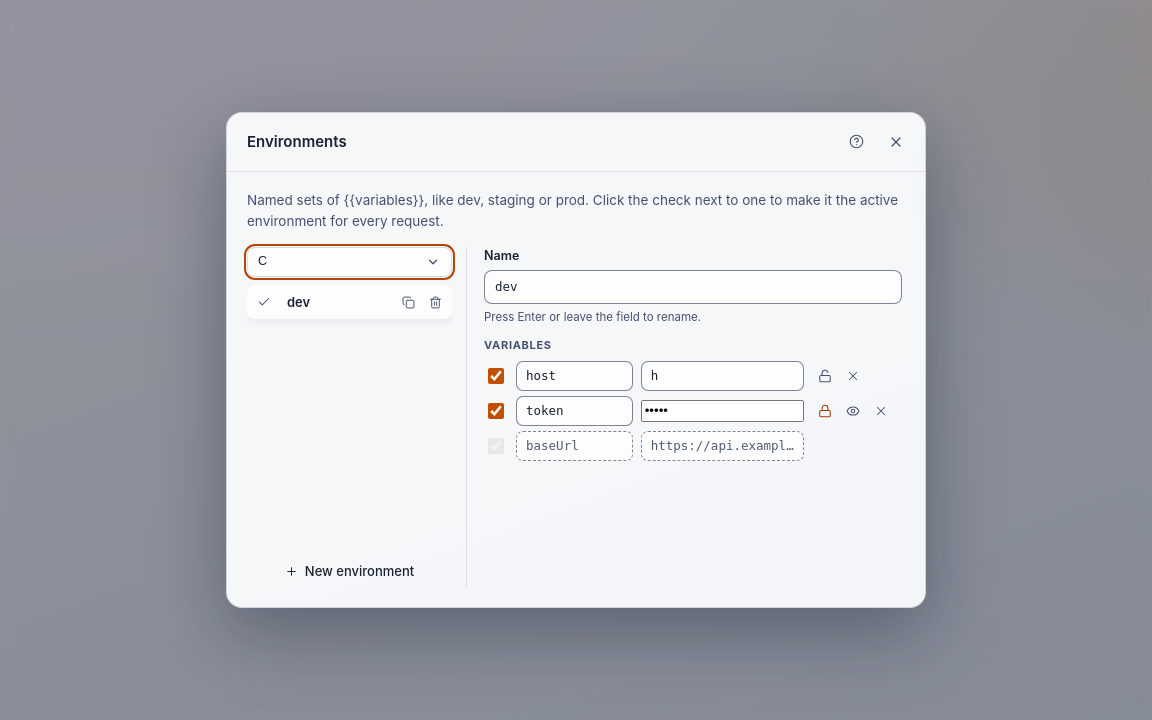
Test case: environment secrets › a revealed row keeps its reveal when a row above it is removed
Click the button named "Reveal variable 2 value" at x=853, y=411, box top-left (840, 398), bottom-right (866, 424)
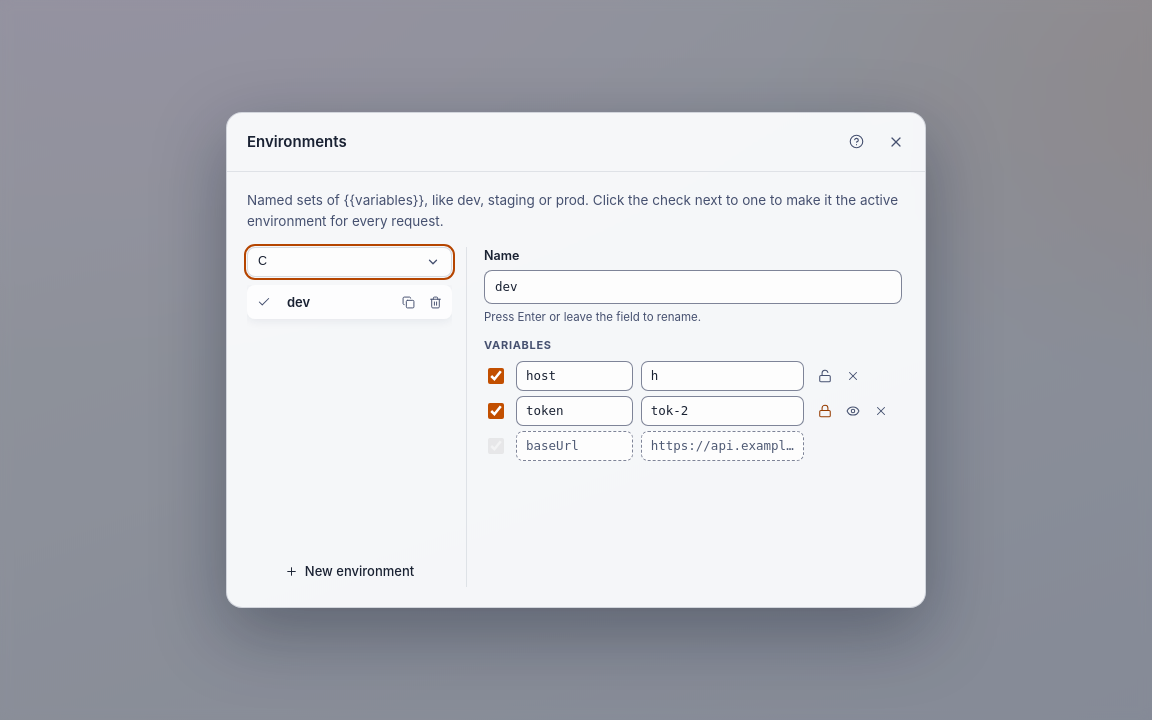
Click the button named "Remove variable 1 (host)" at x=853, y=376, box top-left (840, 363), bottom-right (866, 389)
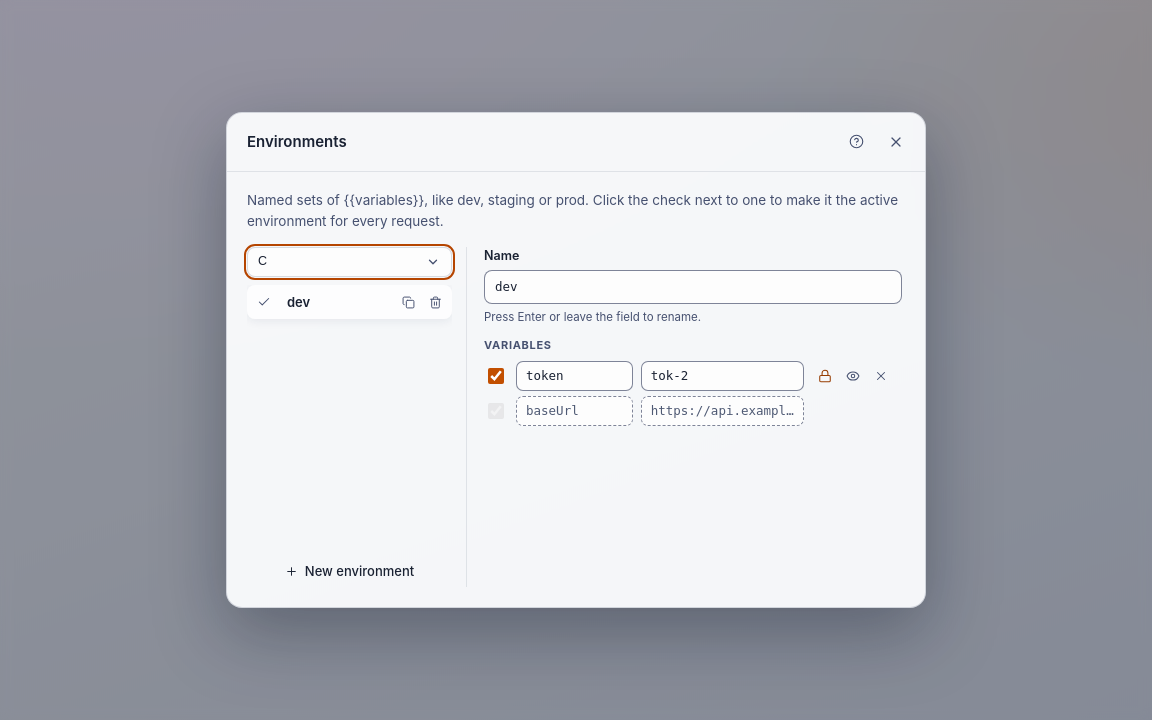
Expected: the field named "Variable 1 value (secret)" holds "tok-2", top-left (641, 361), bottom-right (804, 391)
